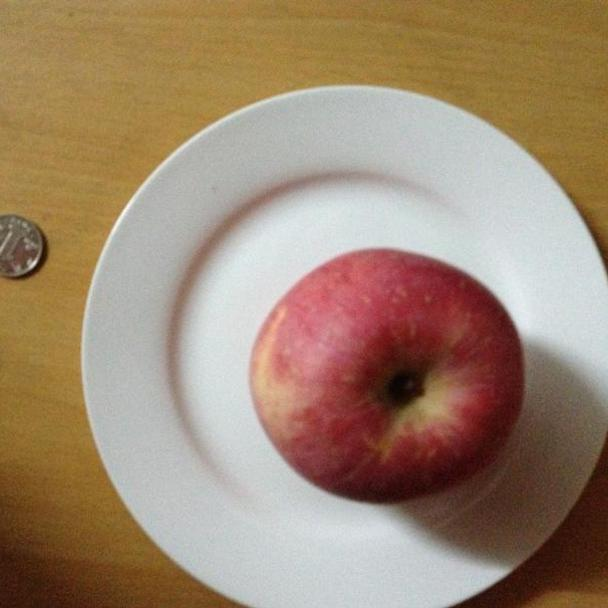apple: (244, 248, 524, 506)
